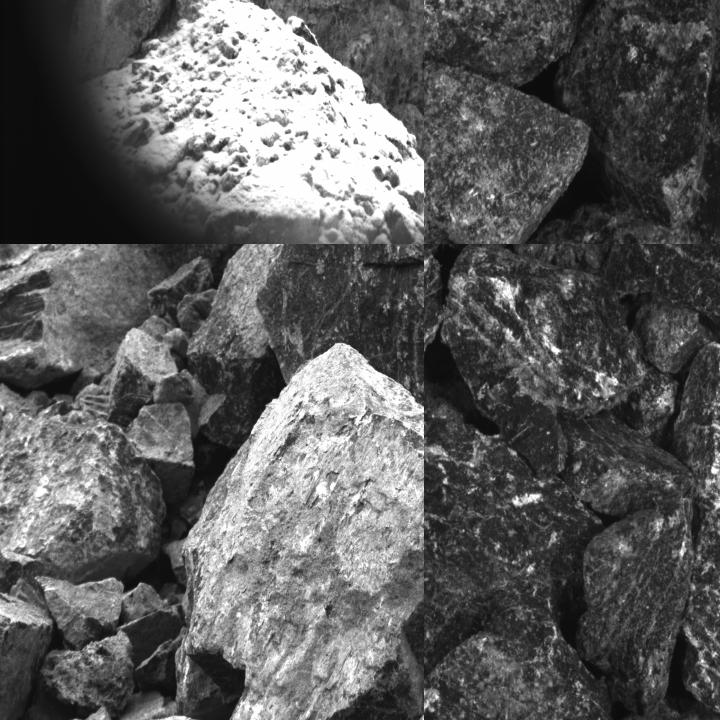stone: (181, 341, 423, 719), (443, 244, 679, 472), (424, 376, 604, 666), (255, 244, 423, 471), (557, 0, 716, 226), (42, 244, 305, 377), (424, 38, 592, 243), (0, 407, 168, 612), (424, 603, 665, 719), (576, 498, 693, 716), (672, 342, 719, 715), (424, 0, 604, 86), (559, 409, 695, 515), (67, 0, 185, 89), (597, 244, 719, 326), (36, 628, 136, 719), (106, 327, 178, 430), (0, 583, 54, 719), (634, 298, 714, 372)
